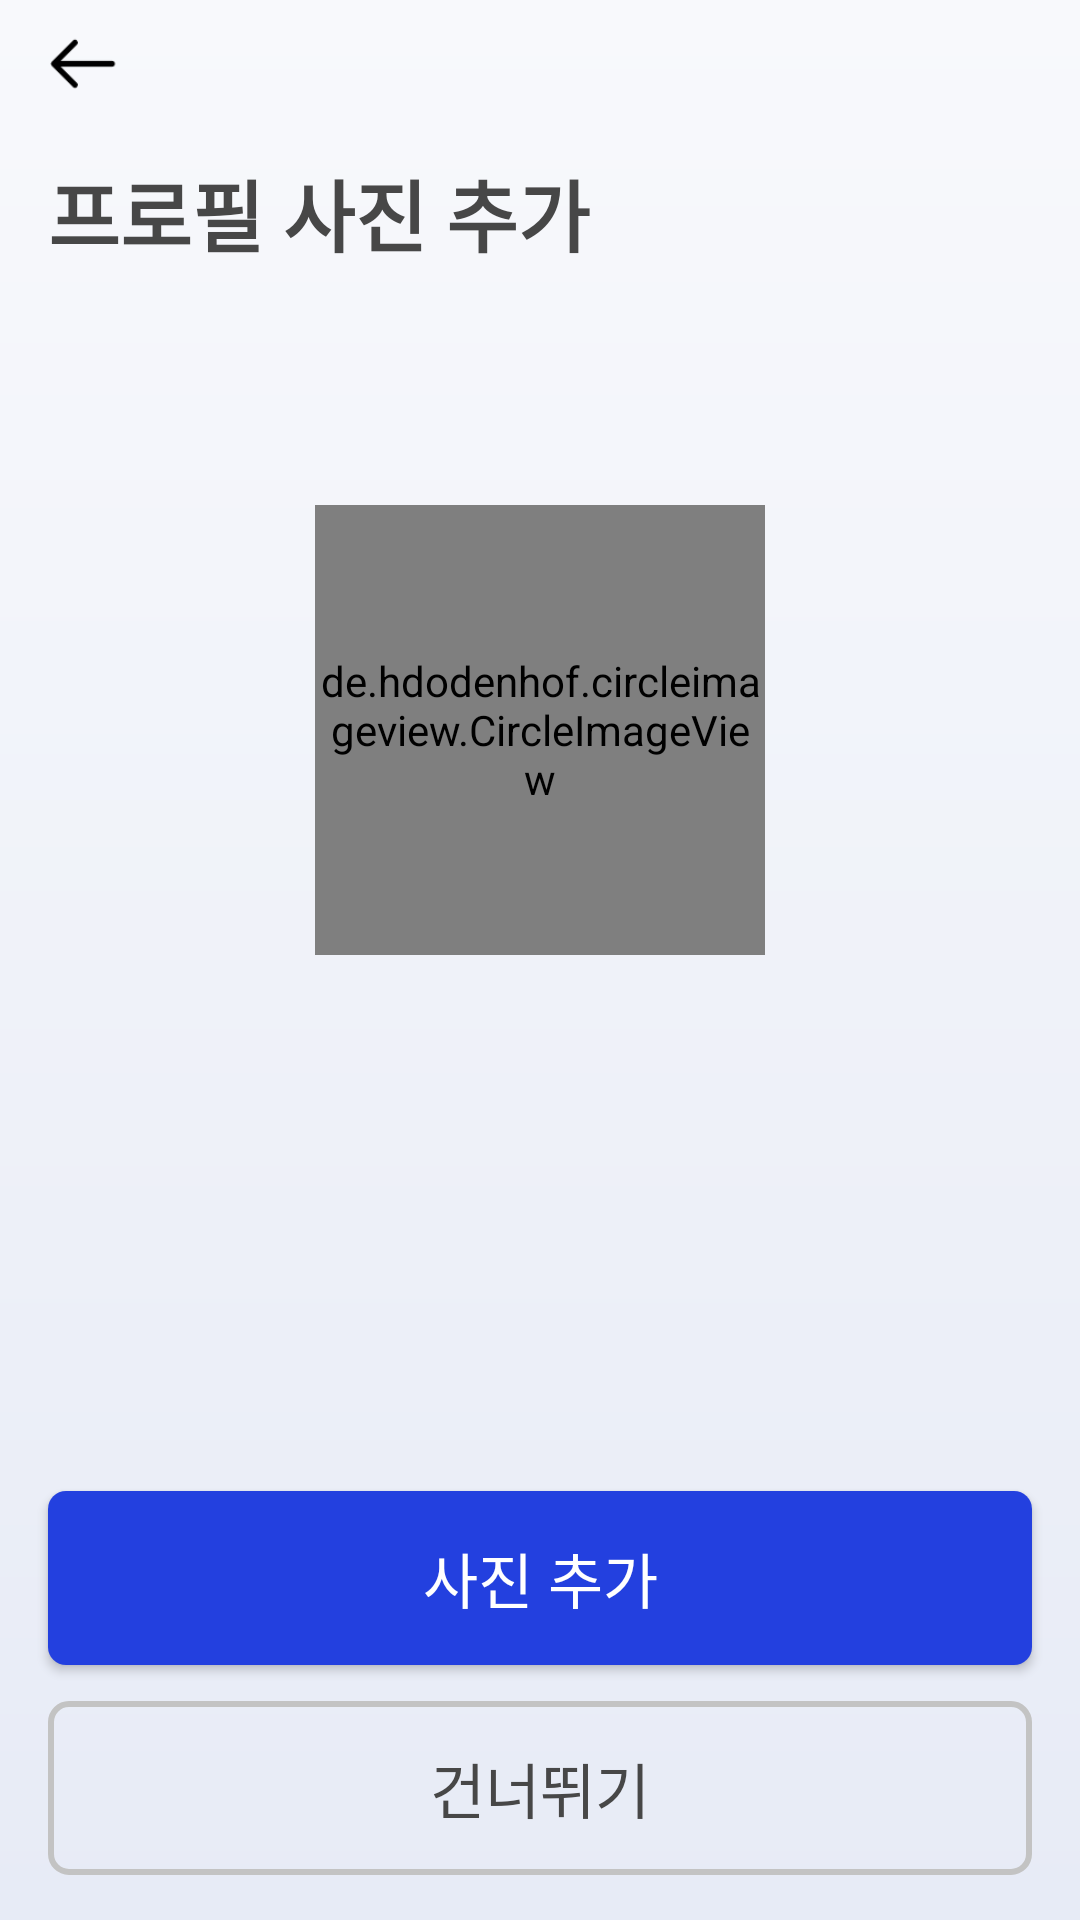

Point at icon controls on the screen. Image size 1080 x 1920, points as (x=x, y=y).
back: (x=83, y=64)
